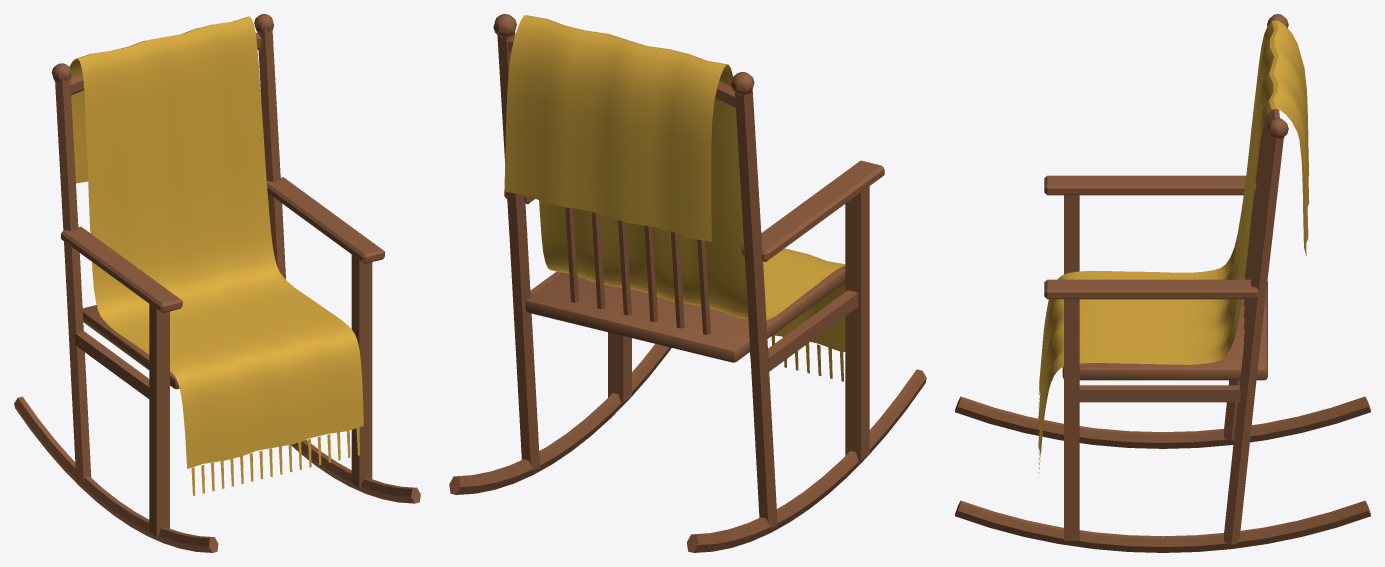
Rendered from rocking_chair.glb.
3 renders of one model, left to right at view 1: azimuth 30°, elevation 25°; view 2: azimuth 150°, elevation 25°; view 3: azimuth 270°, elevation 25°, orthographic. The views are drawn at different scales.
Visible parts, largest first — view 1: throw, rocking_chair; view 2: throw, rocking_chair; view 3: rocking_chair, throw.
Part boxes in pixels (left/top/right/bottom): throw: left=69, top=16, right=363, bottom=495; rocking_chair: left=14, top=14, right=420, bottom=552; throw: left=504, top=15, right=845, bottom=381; rocking_chair: left=449, top=14, right=926, bottom=552; rocking_chair: left=955, top=14, right=1370, bottom=552; throw: left=1038, top=20, right=1309, bottom=477.
Bounding box in the file's own units: 0.6 × 1.05 × 0.9119.
